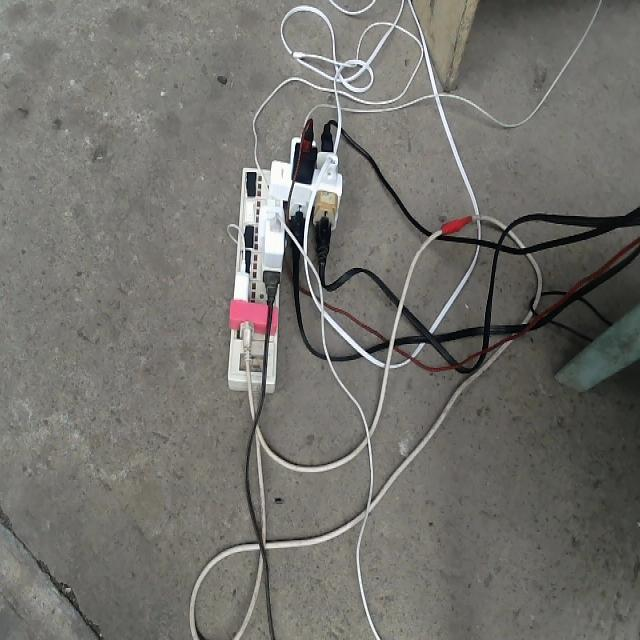-: (226, 112, 342, 392)
